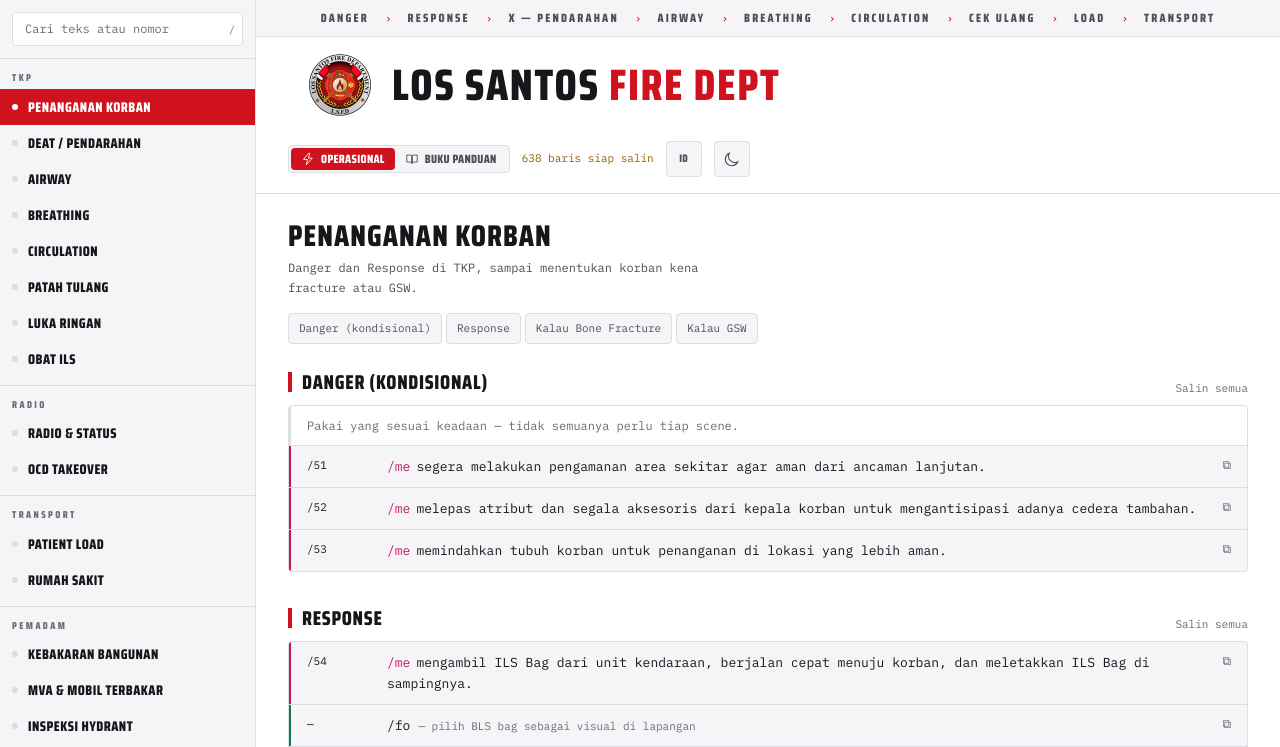
Test: mode switcher & guide mode › berpindah ke mode guide saat tombol Buku Panduan diklik
Click the tab "Buku Panduan" at coordinates (451, 159), box x1=395 y1=148 x2=507 y2=170
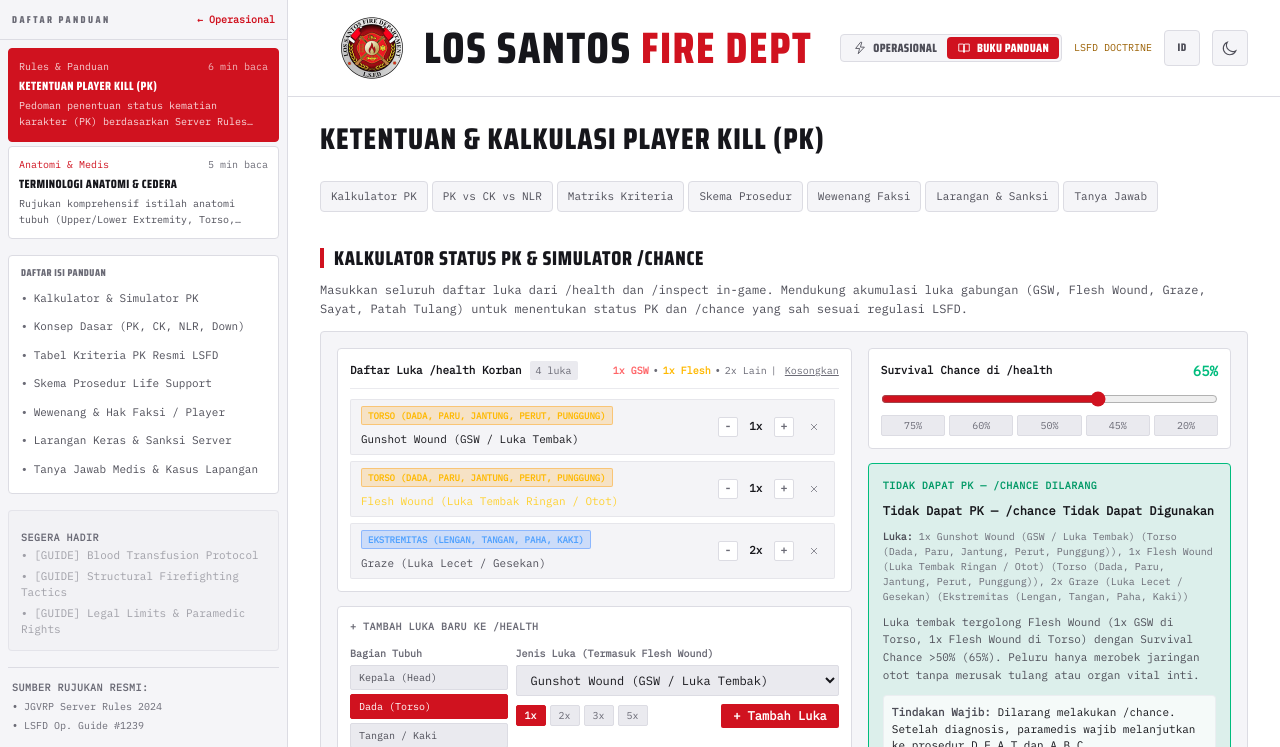
Expected: the text "Ketentuan & Kalkulasi Player Kill (PK)" is shown, x1=320 y1=115 x2=825 y2=162
Expected: the text "Kalkulator Status PK" is shown, x1=334 y1=242 x2=704 y2=274
